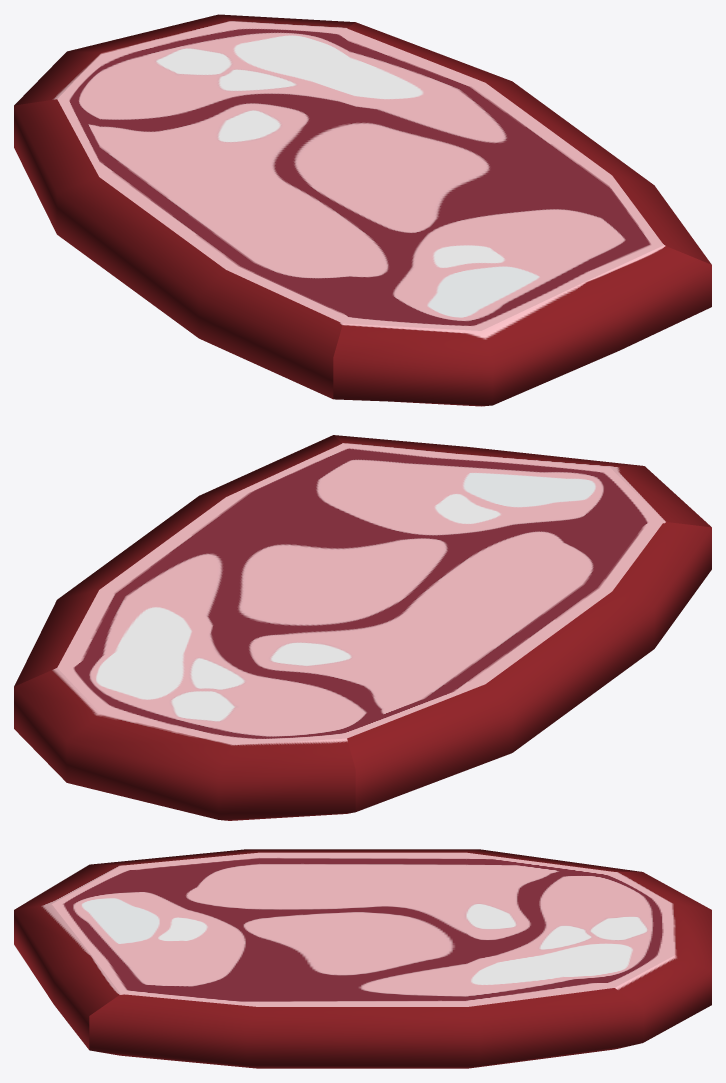
Rendered from meat.fbx.
The picture shows the model from 3 angles, top to bottom: view 1: azimuth 30°, elevation 25°; view 2: azimuth 150°, elevation 25°; view 3: azimuth 270°, elevation 25°; orthographic projection. The views are drawn at different scales.
Parts seen in each view (by area): view 1: pCube1; view 2: pCube1; view 3: pCube1.
Part boxes in pixels (x1,y1,x2,y2): pCube1: (14,14,711,406); pCube1: (14,435,711,820); pCube1: (14,849,711,1068).
Size of the model in its own units: 65.96 by 10.38 by 107.
Materials: 1 (1 with a texture image).
